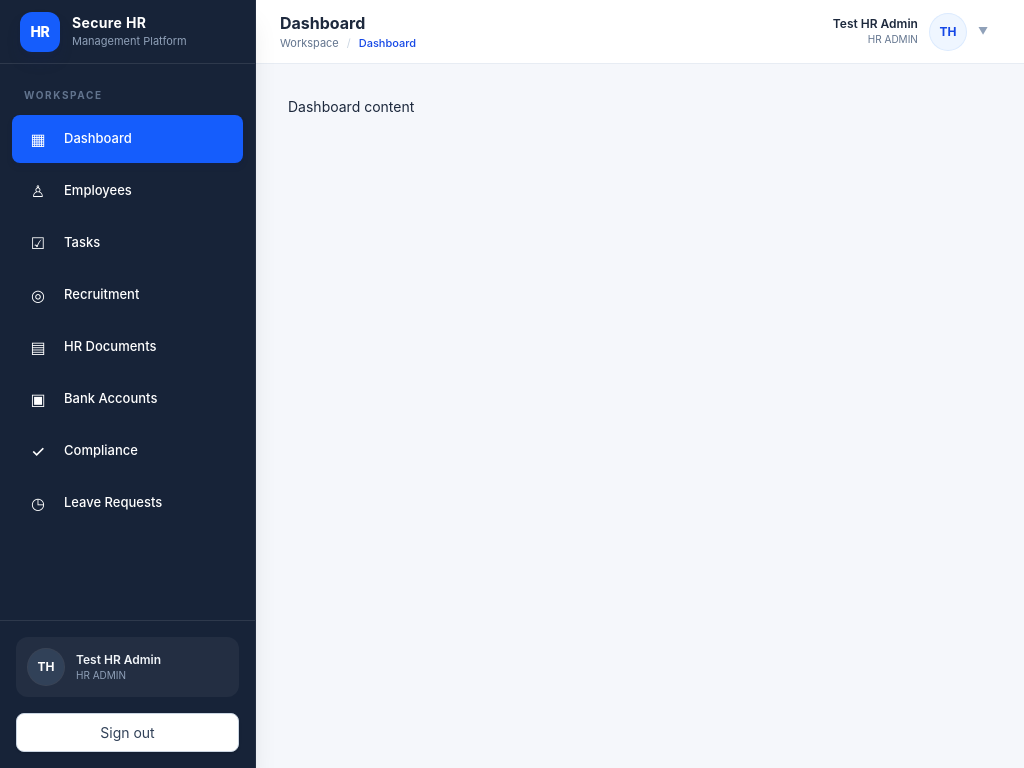
Test: AppLayout › opens the user menu and displays account information
Click the button with aria-label "Open user menu" at (910, 32), box 821,8 -> 1000,56
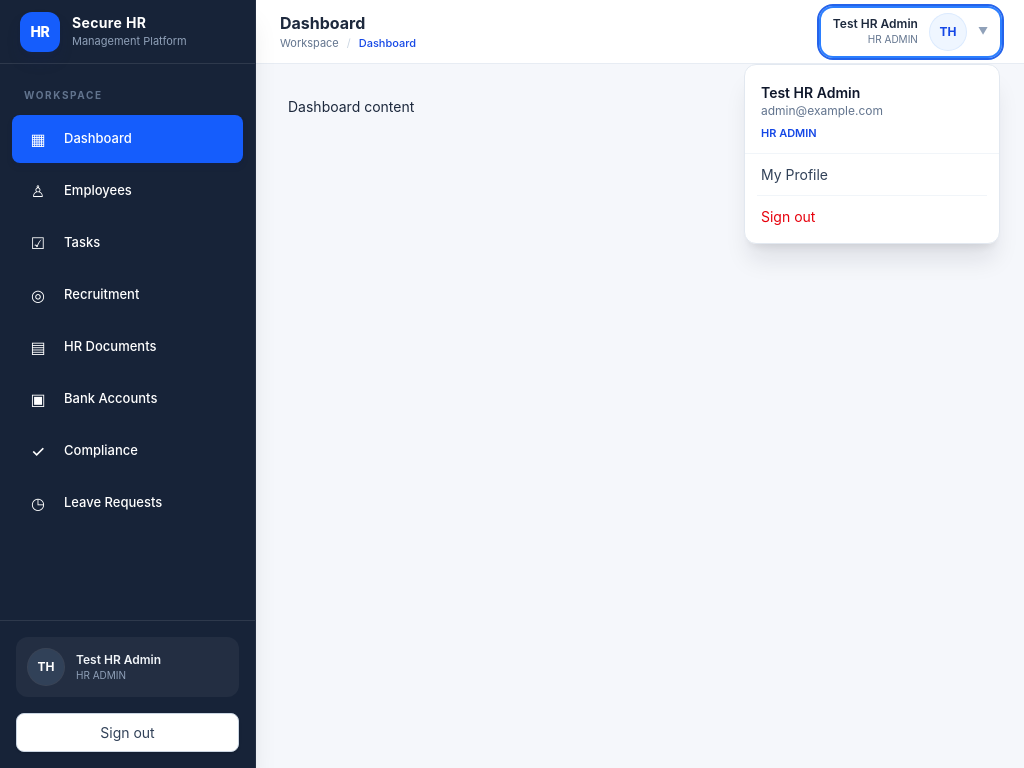
Result: the menu is shown at 744,64 -> 1000,244
Result: the text "admin@example.com" is shown at 761,102 -> 883,118
Result: the menu item "My Profile" is shown at 745,154 -> 999,195
